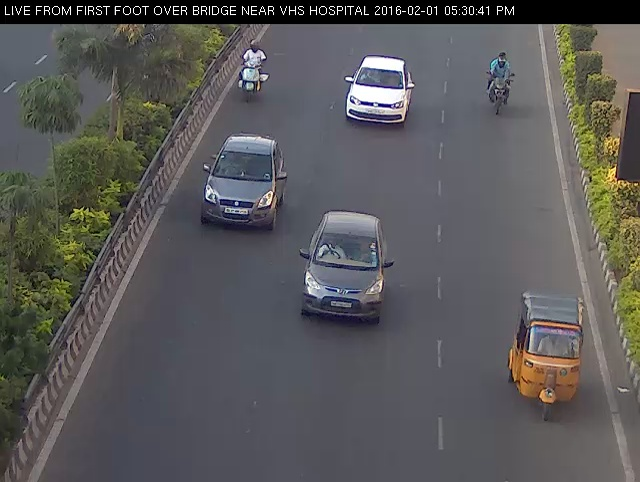Auto: (502, 275, 594, 431)
Car: (284, 195, 400, 335), (189, 123, 293, 242), (341, 51, 417, 140)
Person: (228, 34, 280, 109), (479, 43, 520, 120)
